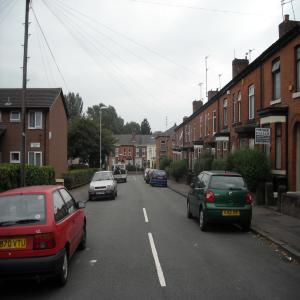Vehicle-registration-plate: (1, 238, 27, 249), (223, 210, 240, 217), (97, 190, 106, 196), (158, 177, 164, 180)
